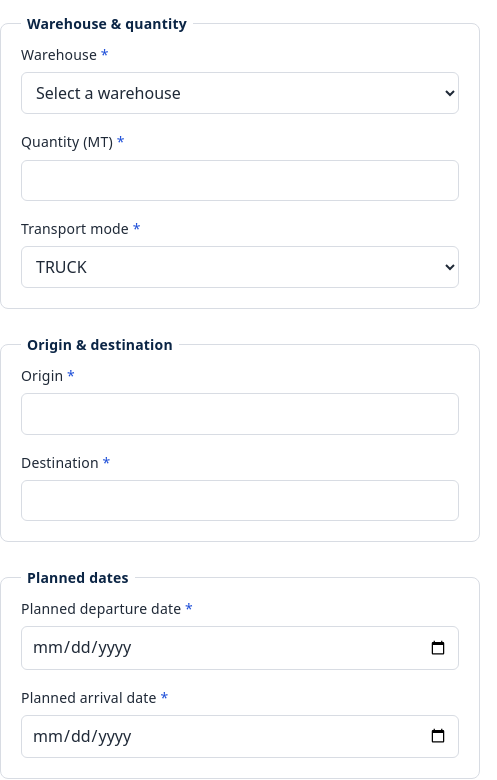
Test case: ShipmentForm › auto-fills origin with the selected warehouse's name for a SELL trade's shipment
The width and height of the screenshot is (497, 780).
Select "Rotterdam Silo" in the dropdown labelled "Warehouse" at coordinates (240, 93), box [21,72,459,114]
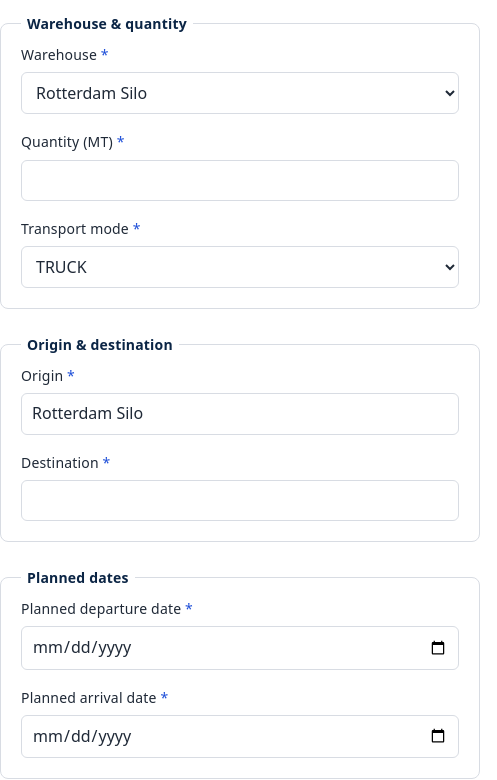
Expected: the field labelled "Origin" holds "Rotterdam Silo", [21,393,459,435]
